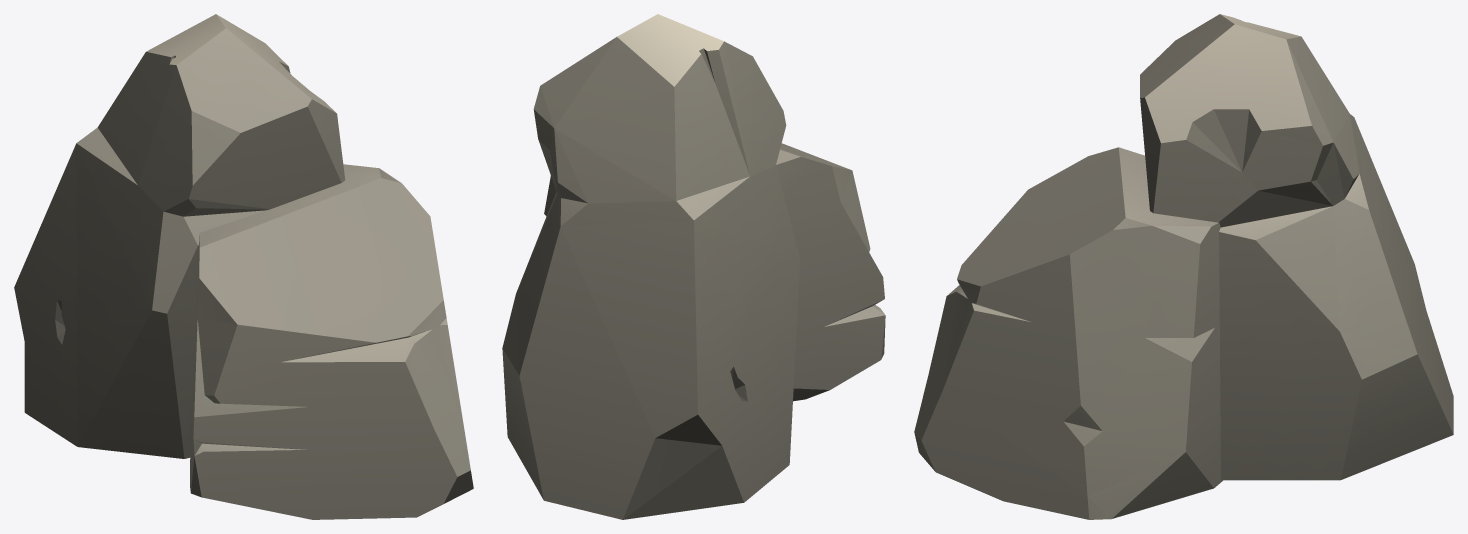
The model's file is Rock_Large_4B.fbx.
The picture shows the model from 3 angles, left to right: view 1: azimuth 30°, elevation 25°; view 2: azimuth 150°, elevation 25°; view 3: azimuth 270°, elevation 25°; orthographic projection. The views are drawn at different scales.
Visible parts, largest first — view 1: Rock_Large_4B; view 2: Rock_Large_4B; view 3: Rock_Large_4B.
Part boxes in pixels (bbox=[...]): Rock_Large_4B: bbox=[14, 14, 473, 519]; Rock_Large_4B: bbox=[502, 14, 885, 519]; Rock_Large_4B: bbox=[914, 14, 1453, 519].
Size of the model in its own units: 384 by 466 by 555.
